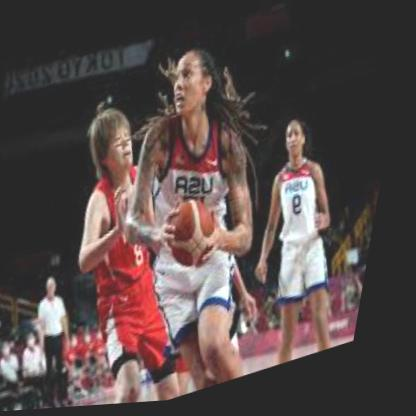basketball: (163, 195, 239, 280)
